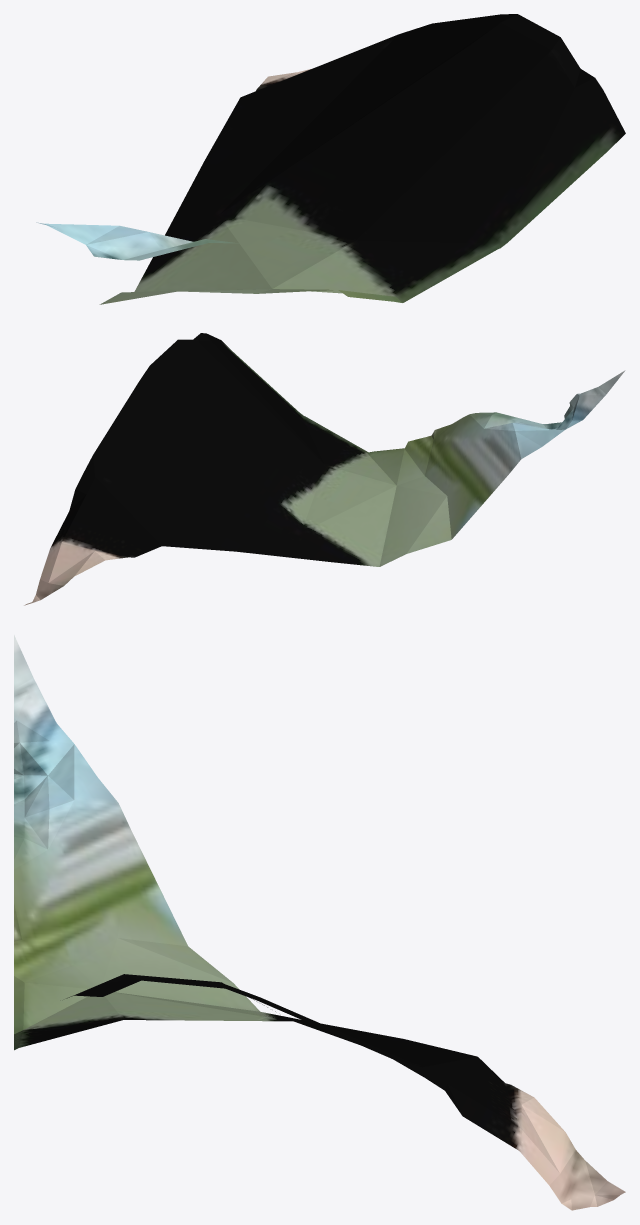
3 views of the same model, one above another, from view 1: azimuth 30°, elevation 25°; view 2: azimuth 150°, elevation 25°; view 3: azimuth 270°, elevation 25° (orthographic). The views are drawn at different scales.
Bounding box in the file's own units: 4.6 × 2.09 × 4.08.
Materials: 1 (1 with a texture image).
